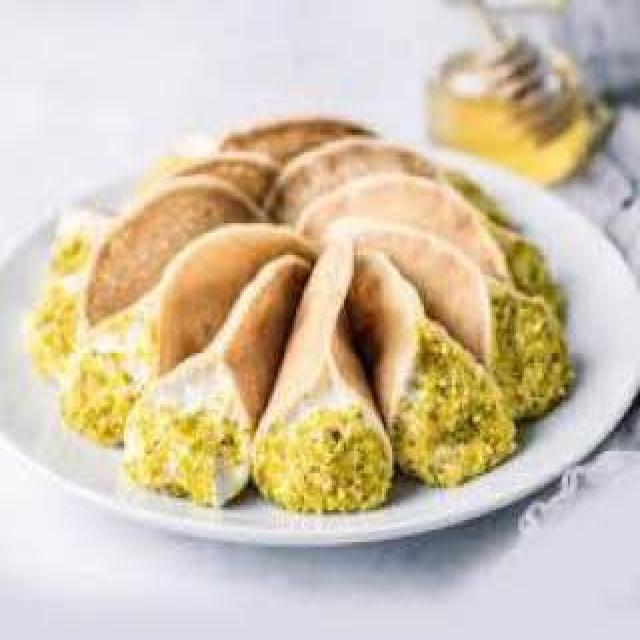ataif: (28, 98, 570, 516)
